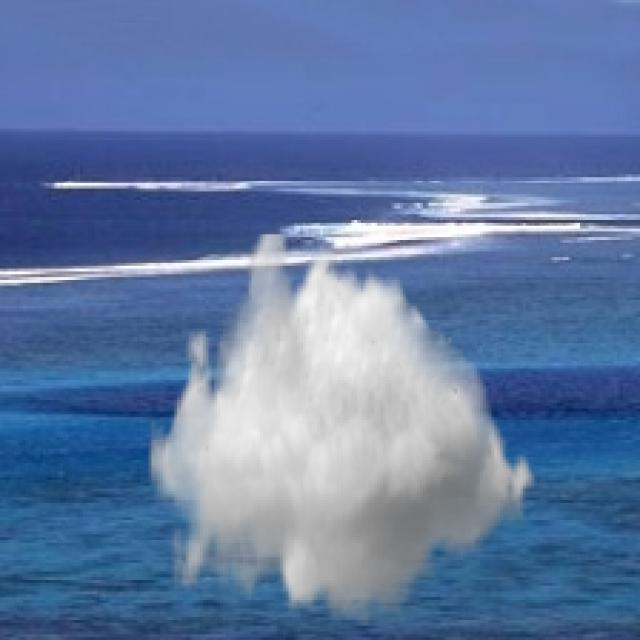Smoke: (148, 231, 543, 626)
